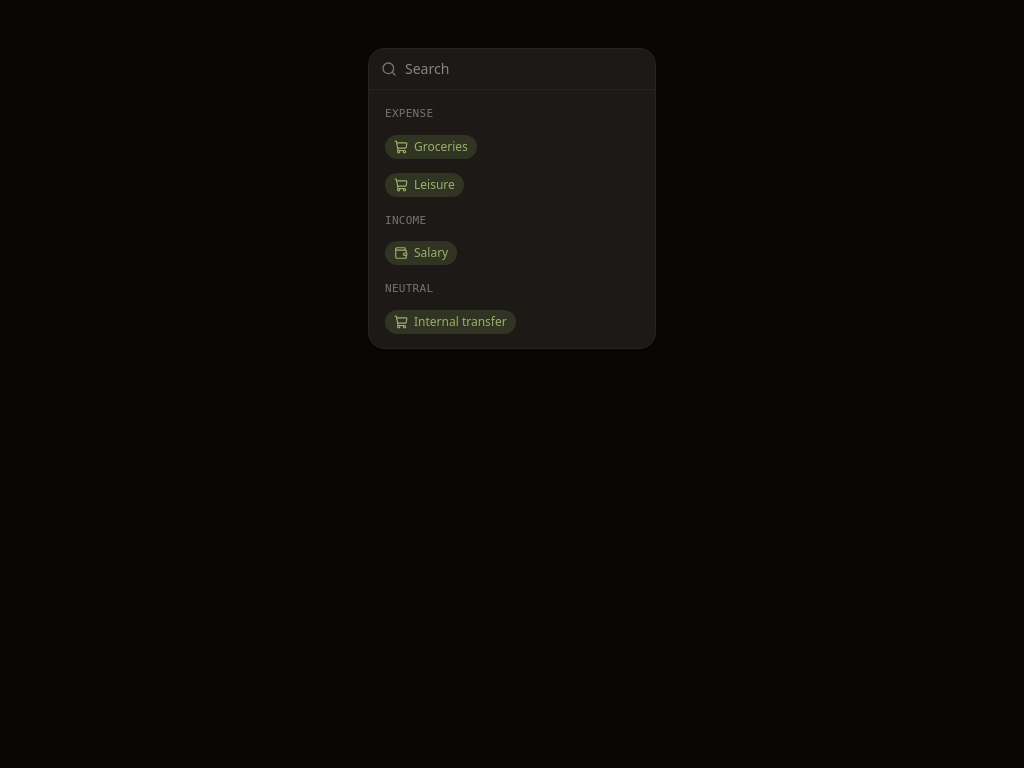
Test: CategoryChooser › filters the list as the user types
expect the text "Groceries" is shown: met, box [414,138,468,154]
Type "sal" into the search field at (512, 69), box [369,49,655,89]
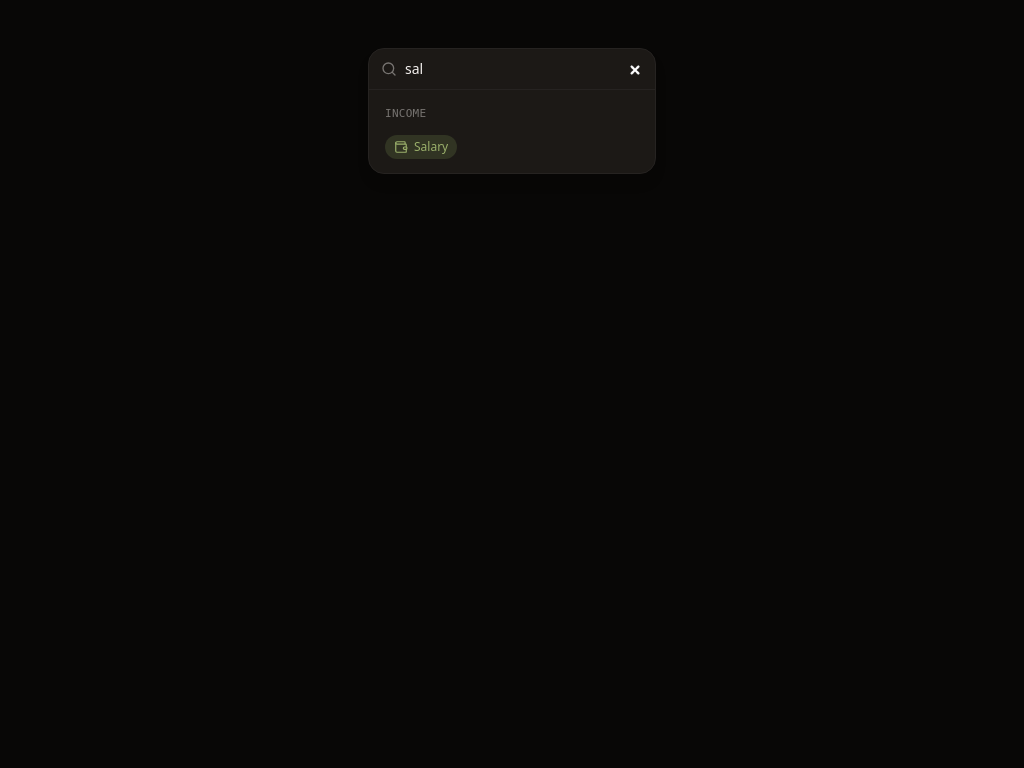
expect the text "Salary" is shown: met, box [414,138,448,154]
expect the option "Groceries" is gone: met
